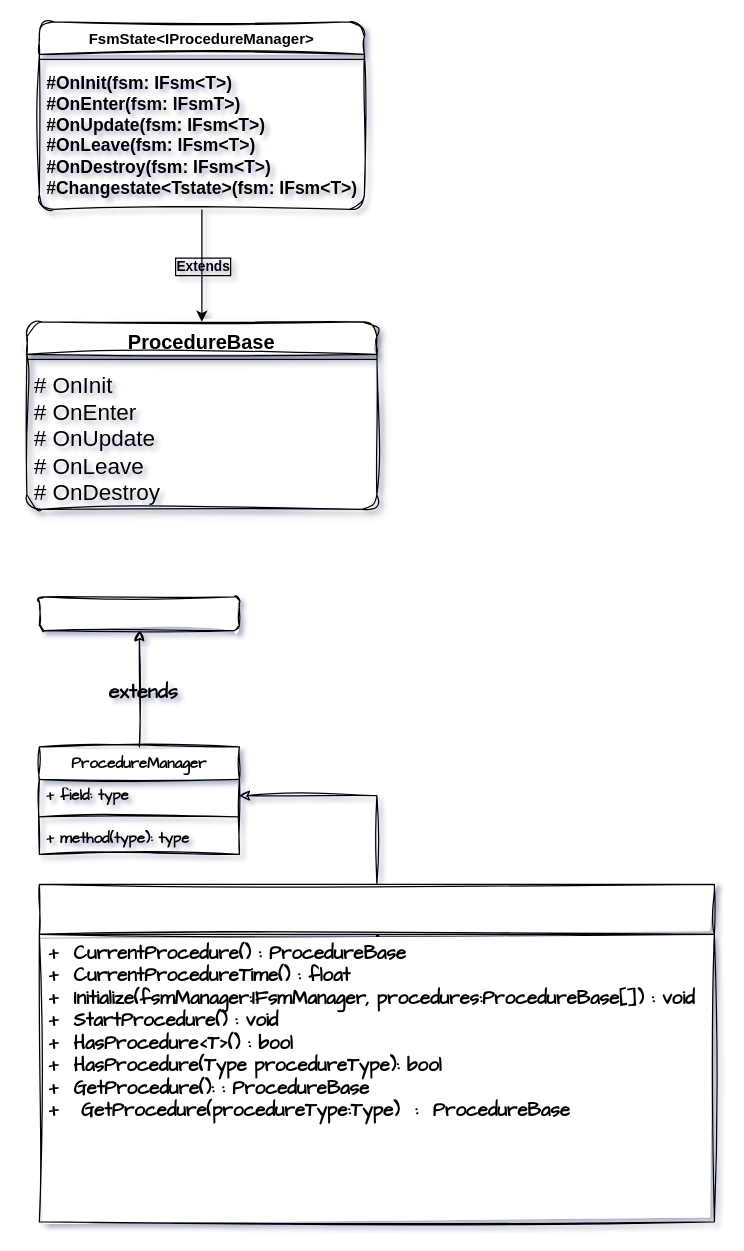
Some shapes in this 744 by 1251 pixel diagram are drawn without their labels. The shapes that lost their labels are listed below. From the top down, each one's centre as x and y in pixels, then its label:
At pixel 138 613: "GameFramworkModule".
At pixel 376 908: "«interface» IProcedureManager".
